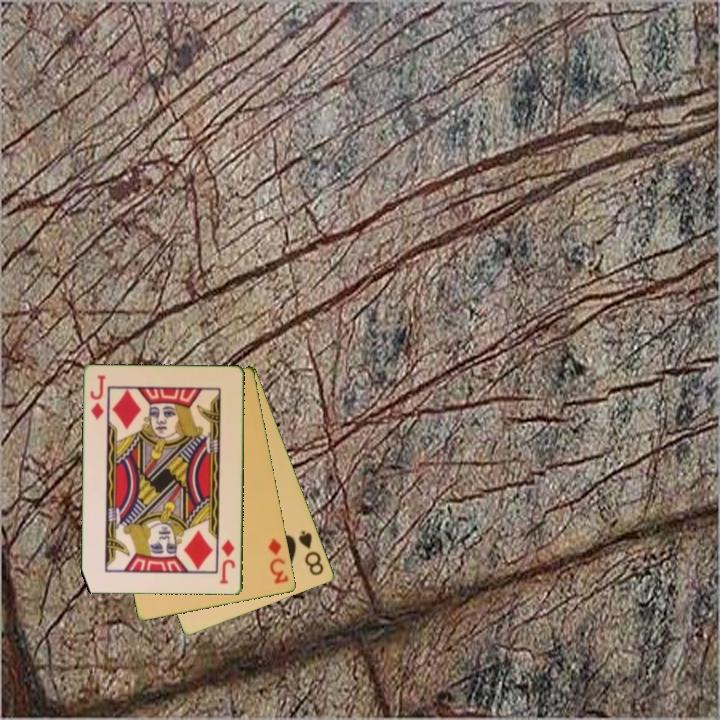3d: (265, 535, 292, 587)
8s: (295, 527, 327, 579)
Jd: (216, 536, 238, 587), (87, 372, 109, 422)
